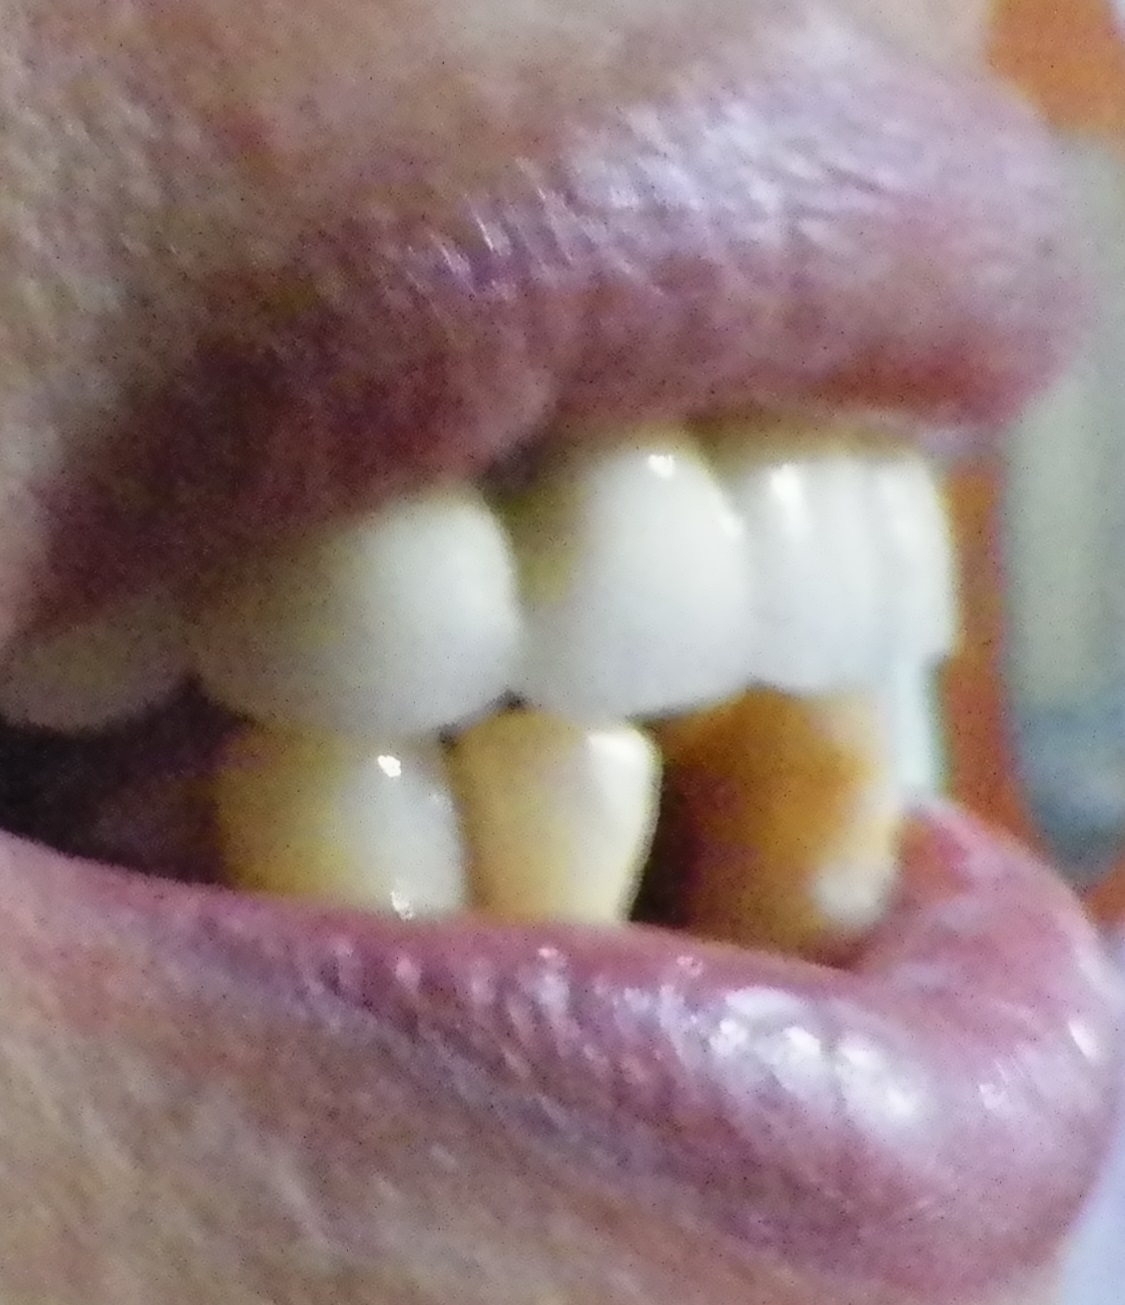boca: (52, 428, 962, 910)
